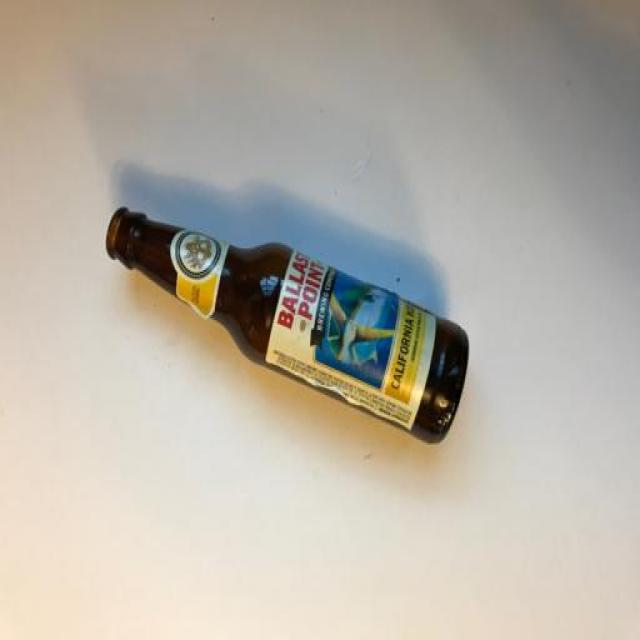glass: (60, 167, 518, 474)
